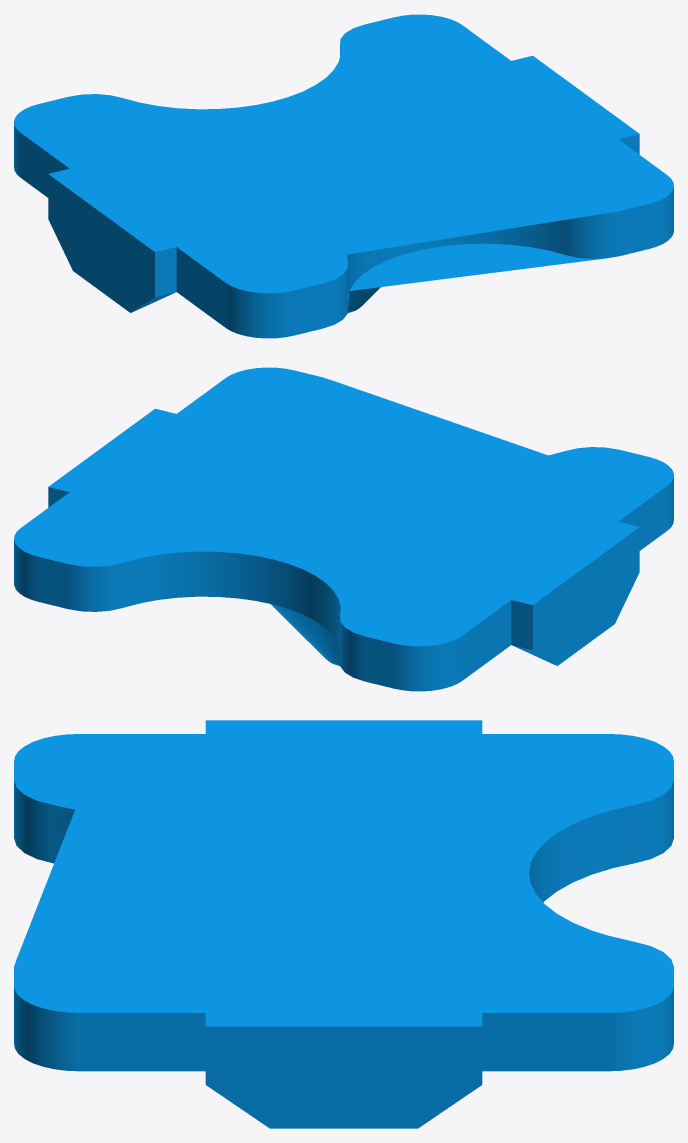
Rendered from GripBody.obj.
3 renders of one model, top to bottom at view 1: azimuth 30°, elevation 25°; view 2: azimuth 150°, elevation 25°; view 3: azimuth 270°, elevation 25°, orthographic. The views are drawn at different scales.
Size of the model in its own units: 0.1125 by 0.0348 by 0.1025.
